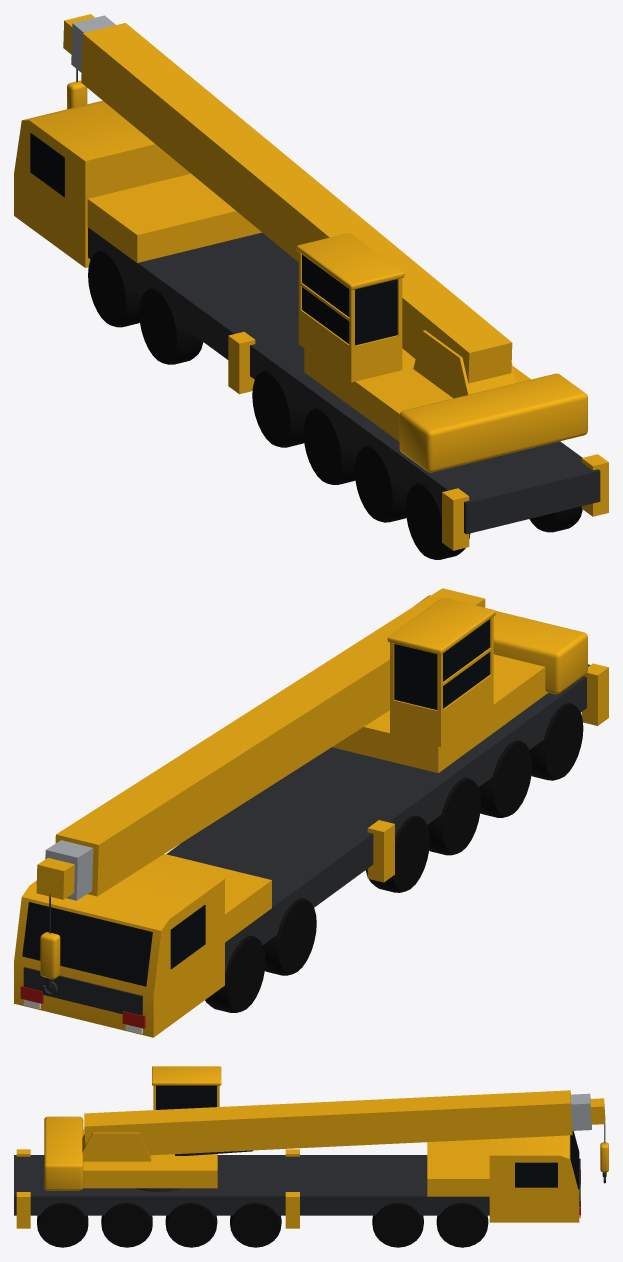
The model's file is plant.lifting.mobile_crane_6_axle_stowed.glb.
3 renders of one model, top to bottom at view 1: azimuth 30°, elevation 25°; view 2: azimuth 150°, elevation 25°; view 3: azimuth 270°, elevation 25°, orthographic. The views are drawn at different scales.
Parts seen in each view (by area): view 1: boom__plant_yellow, carrier__steel_dark, upper__plant_yellow, carrier__plant_yellow, wheels__rubber, upper__glass_dark, outriggers__plant_yellow, carrier__glass_dark, boom__steel_galvanised; view 2: carrier__steel_dark, boom__plant_yellow, upper__plant_yellow, carrier__plant_yellow, wheels__rubber, carrier__glass_dark, upper__glass_dark, outriggers__plant_yellow, boom__steel_galvanised, hook__plant_yellow, carrier__hazard_red; view 3: boom__plant_yellow, carrier__steel_dark, wheels__rubber, upper__plant_yellow, carrier__plant_yellow, carrier__glass_dark, upper__glass_dark, outriggers__plant_yellow, boom__steel_galvanised, hook__plant_yellow.
Boxes of the visible parts, box(x1,y1,x2,y2) form: boom__plant_yellow: box(63, 14, 512, 383); carrier__steel_dark: box(88, 227, 600, 534); upper__plant_yellow: box(296, 233, 587, 472); carrier__plant_yellow: box(14, 100, 261, 267); wheels__rubber: box(88, 250, 582, 559); upper__glass_dark: box(302, 254, 397, 345); outriggers__plant_yellow: box(228, 331, 608, 550); carrier__glass_dark: box(30, 133, 64, 197); boom__steel_galvanised: box(71, 15, 115, 72); carrier__steel_dark: box(23, 664, 589, 1015); boom__plant_yellow: box(36, 588, 485, 899); upper__plant_yellow: box(332, 595, 587, 773); carrier__plant_yellow: box(14, 854, 271, 1037); wheels__rubber: box(205, 703, 583, 1012); carrier__glass_dark: box(22, 902, 205, 986); upper__glass_dark: box(394, 619, 489, 709); outriggers__plant_yellow: box(367, 663, 608, 882); boom__steel_galvanised: box(45, 840, 93, 900); hook__plant_yellow: box(40, 932, 60, 979); carrier__hazard_red: box(20, 985, 145, 1028); boom__plant_yellow: box(84, 1090, 605, 1155); carrier__steel_dark: box(14, 1155, 580, 1215); wheels__rubber: box(37, 1202, 488, 1247); upper__plant_yellow: box(44, 1066, 221, 1190); carrier__plant_yellow: box(427, 1135, 579, 1222); carrier__glass_dark: box(515, 1131, 579, 1189); upper__glass_dark: box(156, 1085, 216, 1109); outriggers__plant_yellow: box(16, 1149, 299, 1228); boom__steel_galvanised: box(571, 1093, 591, 1130); hook__plant_yellow: box(600, 1142, 608, 1172).
Size of the model in its own units: 3 by 3.95 by 15.26.
